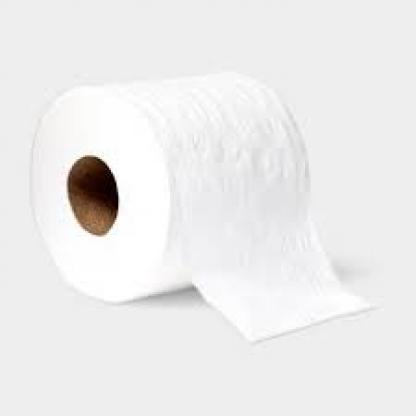tissue: (32, 76, 355, 350)
